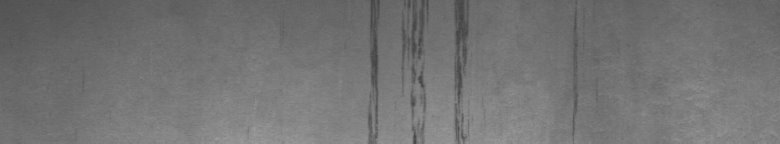ka: (365, 4, 473, 136)
